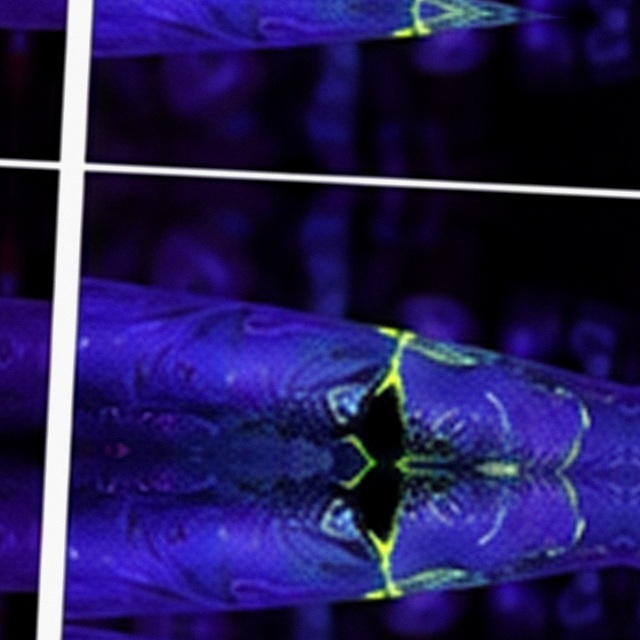hydraulic_oil_leak: (376, 327, 413, 427), (368, 508, 402, 597), (346, 435, 375, 488), (395, 453, 434, 476), (433, 346, 474, 364), (423, 570, 456, 584), (413, 343, 425, 352), (401, 579, 416, 584), (428, 456, 434, 461), (500, 473, 505, 477), (401, 501, 404, 503), (508, 462, 511, 464)
